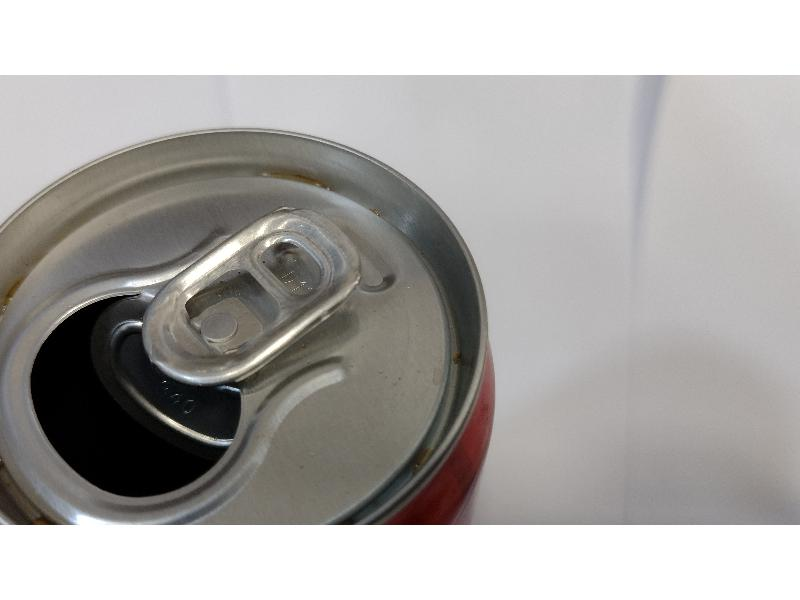can: (1, 112, 517, 521)
